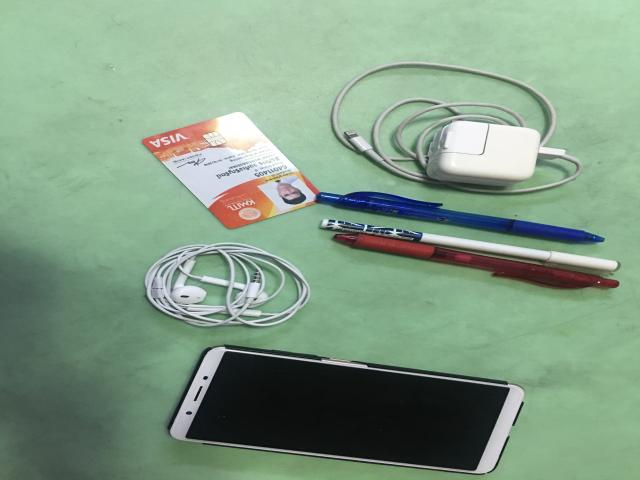Mobile phone: (168, 345, 525, 474)
Pen: (320, 220, 621, 288), (317, 192, 605, 243)
wire: (332, 62, 583, 194), (145, 243, 310, 326)
